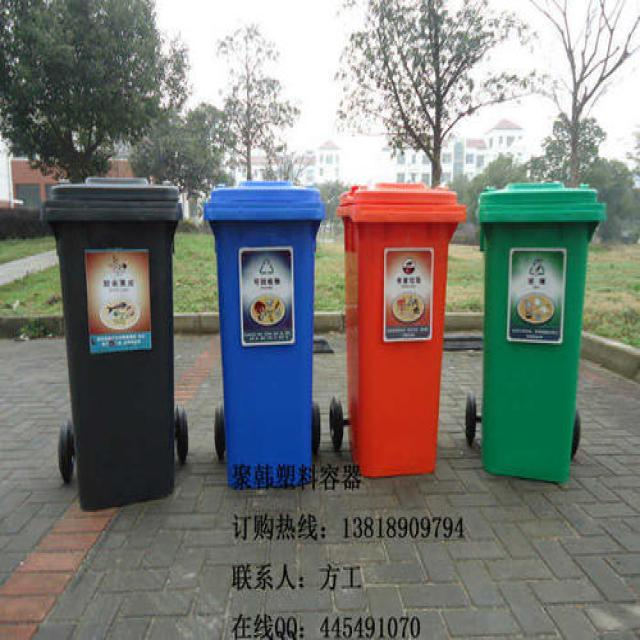garbage_bin: (41, 178, 182, 510), (475, 179, 604, 481), (335, 181, 465, 476), (202, 179, 324, 488)
